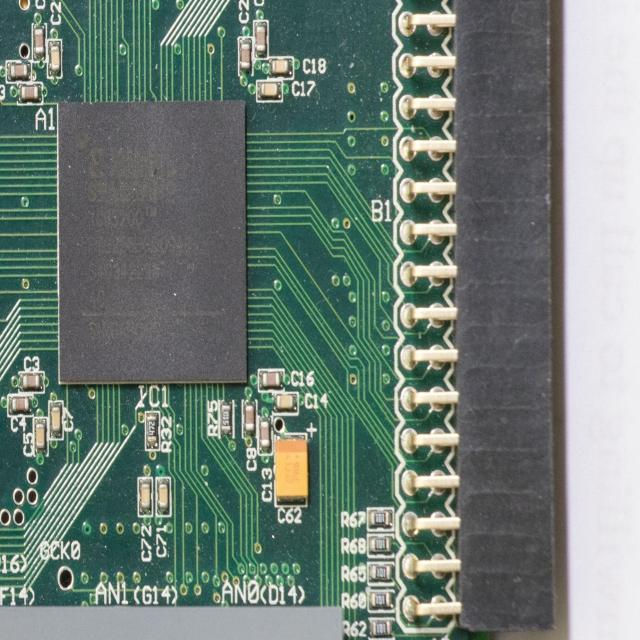IC: (56, 101, 248, 382)
capacitor: (266, 56, 294, 80), (256, 79, 284, 103), (257, 416, 273, 454), (156, 477, 171, 517), (31, 24, 47, 61), (238, 36, 253, 75), (47, 39, 62, 78), (6, 60, 32, 82), (34, 418, 49, 456), (242, 399, 257, 436), (8, 393, 32, 416), (18, 82, 43, 104), (19, 372, 44, 394), (138, 477, 152, 516), (258, 370, 284, 390), (254, 20, 268, 57), (49, 398, 62, 437), (275, 393, 299, 414)
connector: (398, 0, 554, 637)
electrolytic capacitor: (274, 432, 308, 507)
resistor: (366, 590, 396, 613), (368, 561, 394, 586), (218, 399, 234, 438), (366, 535, 394, 557), (145, 410, 160, 450), (368, 508, 393, 532), (368, 618, 394, 640)
